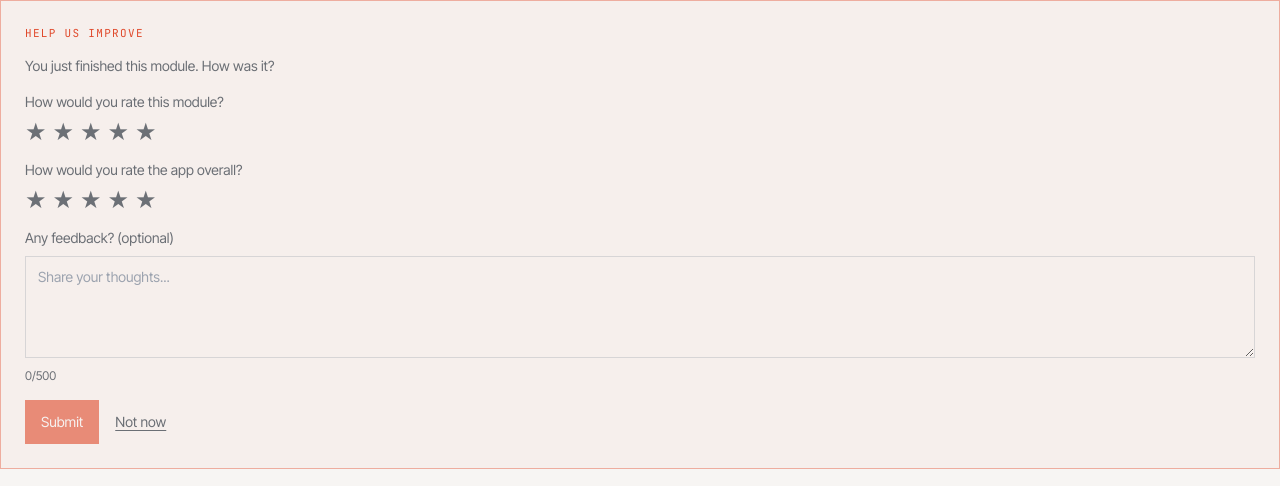
FeedbackPrompt › shows the thank-you state even when no coupon is returned
Click the 5th button "★".
click(146, 132)  # box [135,120,157,144]
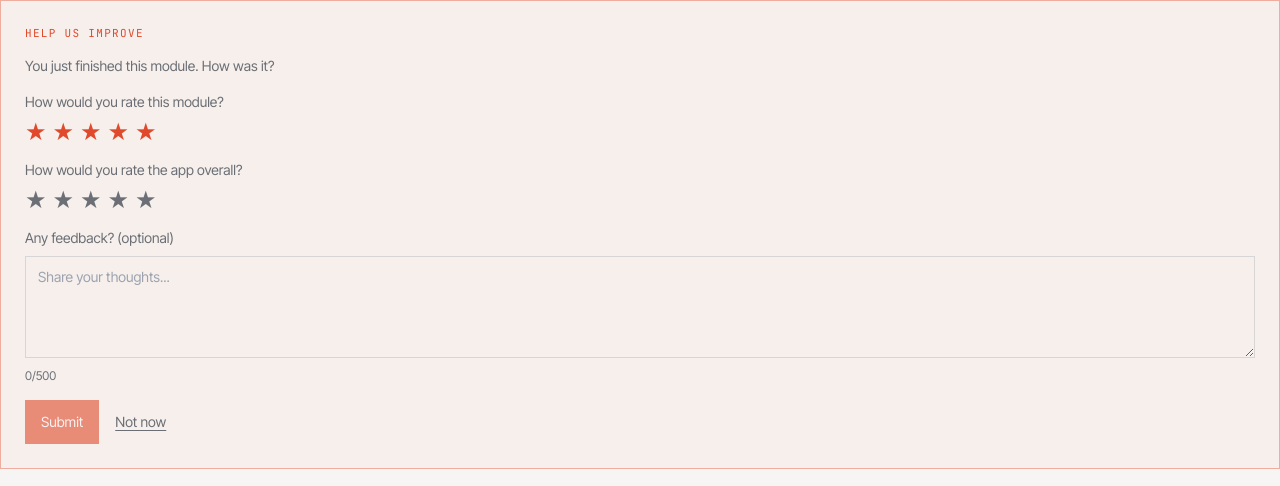
Click the 10th button "★".
click(146, 200)  # box [135,188,157,212]
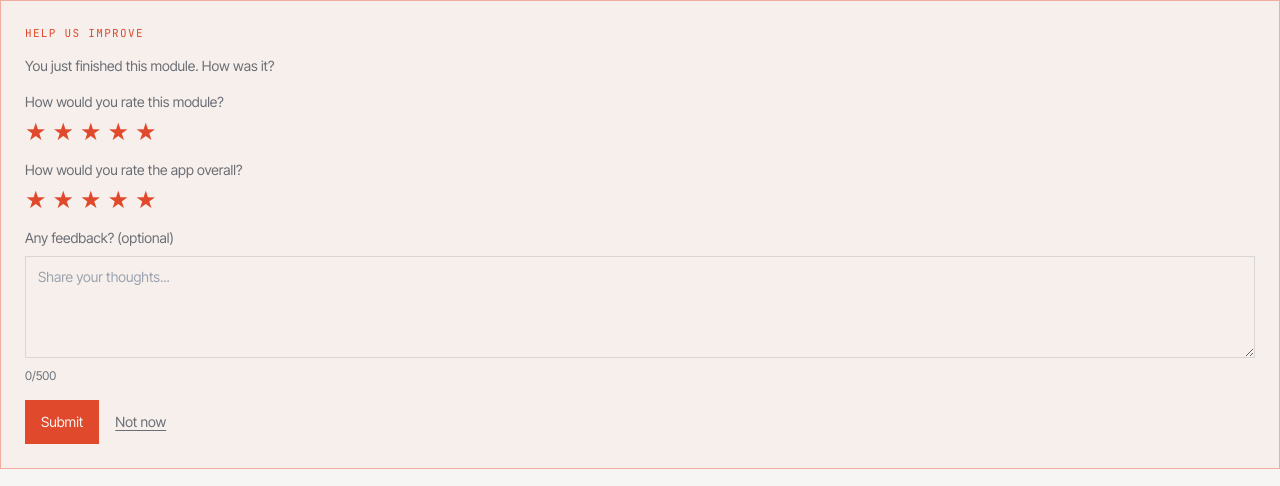
Click the button "Submit".
click(62, 422)  # box [25,400,99,444]
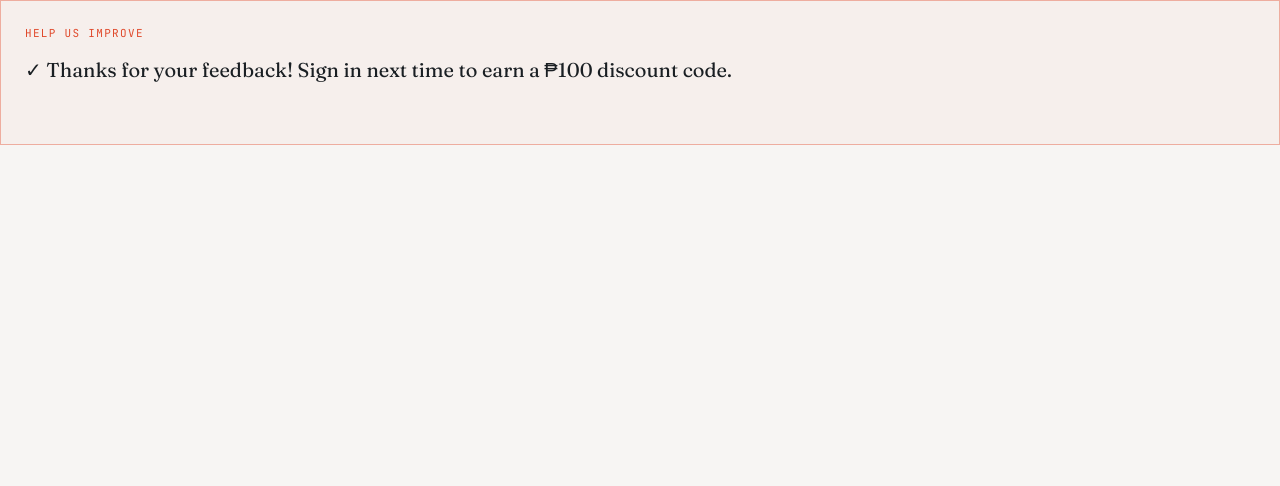
Expected: the text "Sign in next time" is shown, [46,56,732,82]
